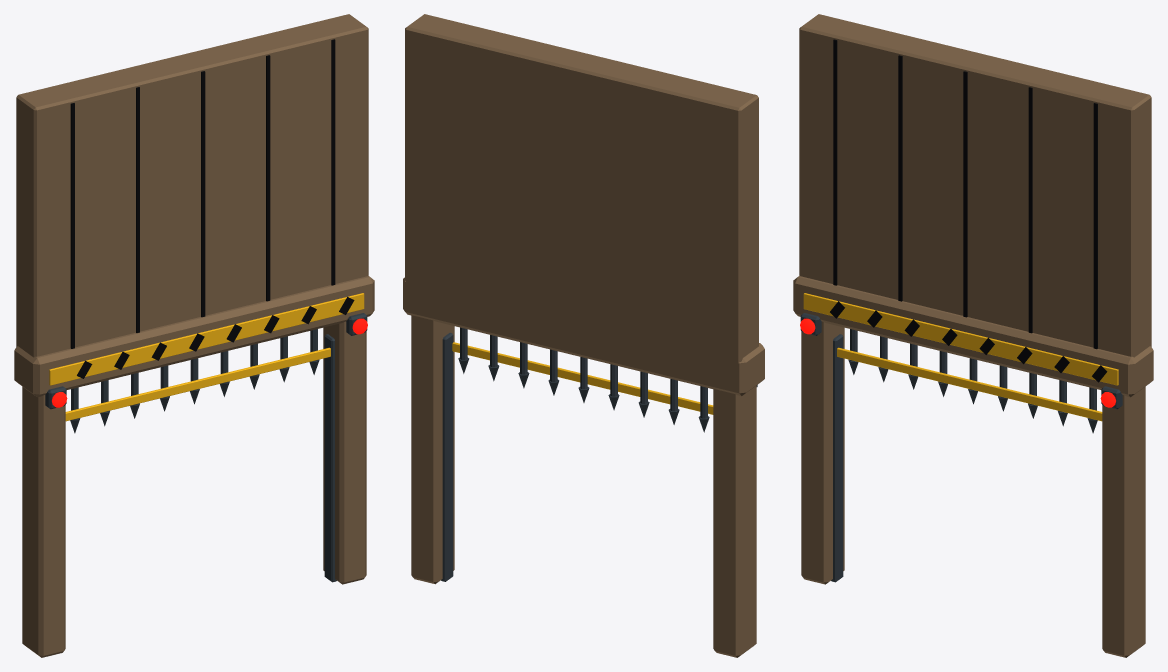
Rendered from MD_Zoo_IronGate.fbx.
3 views of the same model, side by side, from view 1: azimuth 30°, elevation 25°; view 2: azimuth 150°, elevation 25°; view 3: azimuth 330°, elevation 25° (orthographic).
Visible parts, largest first — view 1: MD_Zoo_IronGate, Grate; view 2: MD_Zoo_IronGate, Grate; view 3: MD_Zoo_IronGate, Grate.
Part boxes in pixels (bbox=[...]): MD_Zoo_IronGate: bbox=[14, 14, 374, 657]; Grate: bbox=[65, 329, 330, 433]; MD_Zoo_IronGate: bbox=[403, 14, 764, 657]; Grate: bbox=[452, 327, 713, 432]; MD_Zoo_IronGate: bbox=[793, 14, 1153, 657]; Grate: bbox=[837, 329, 1102, 433].
Size of the model in its own units: 500 by 770 by 74.
